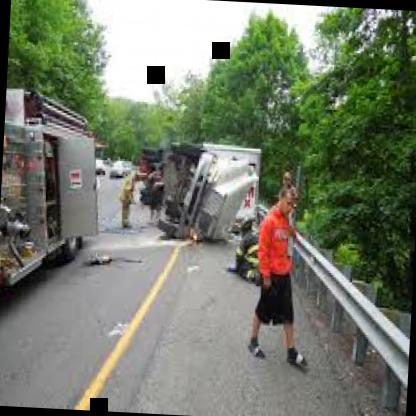accident: (0, 85, 106, 289), (134, 138, 266, 253)
